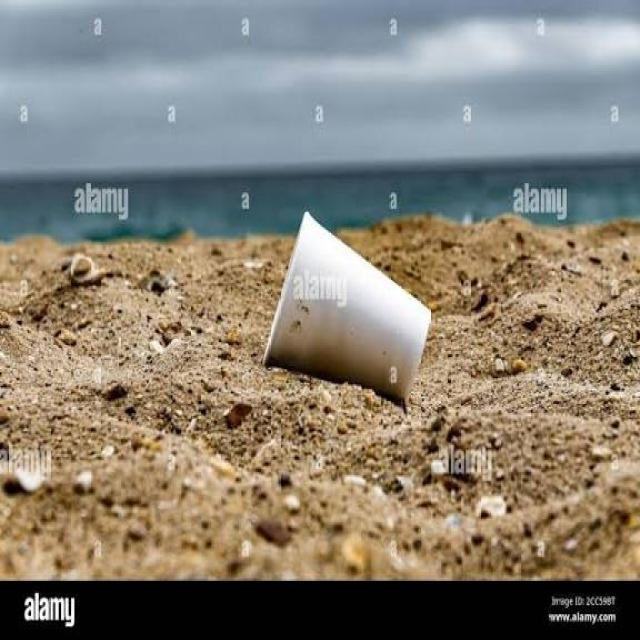styrofoam: (250, 203, 457, 420)
